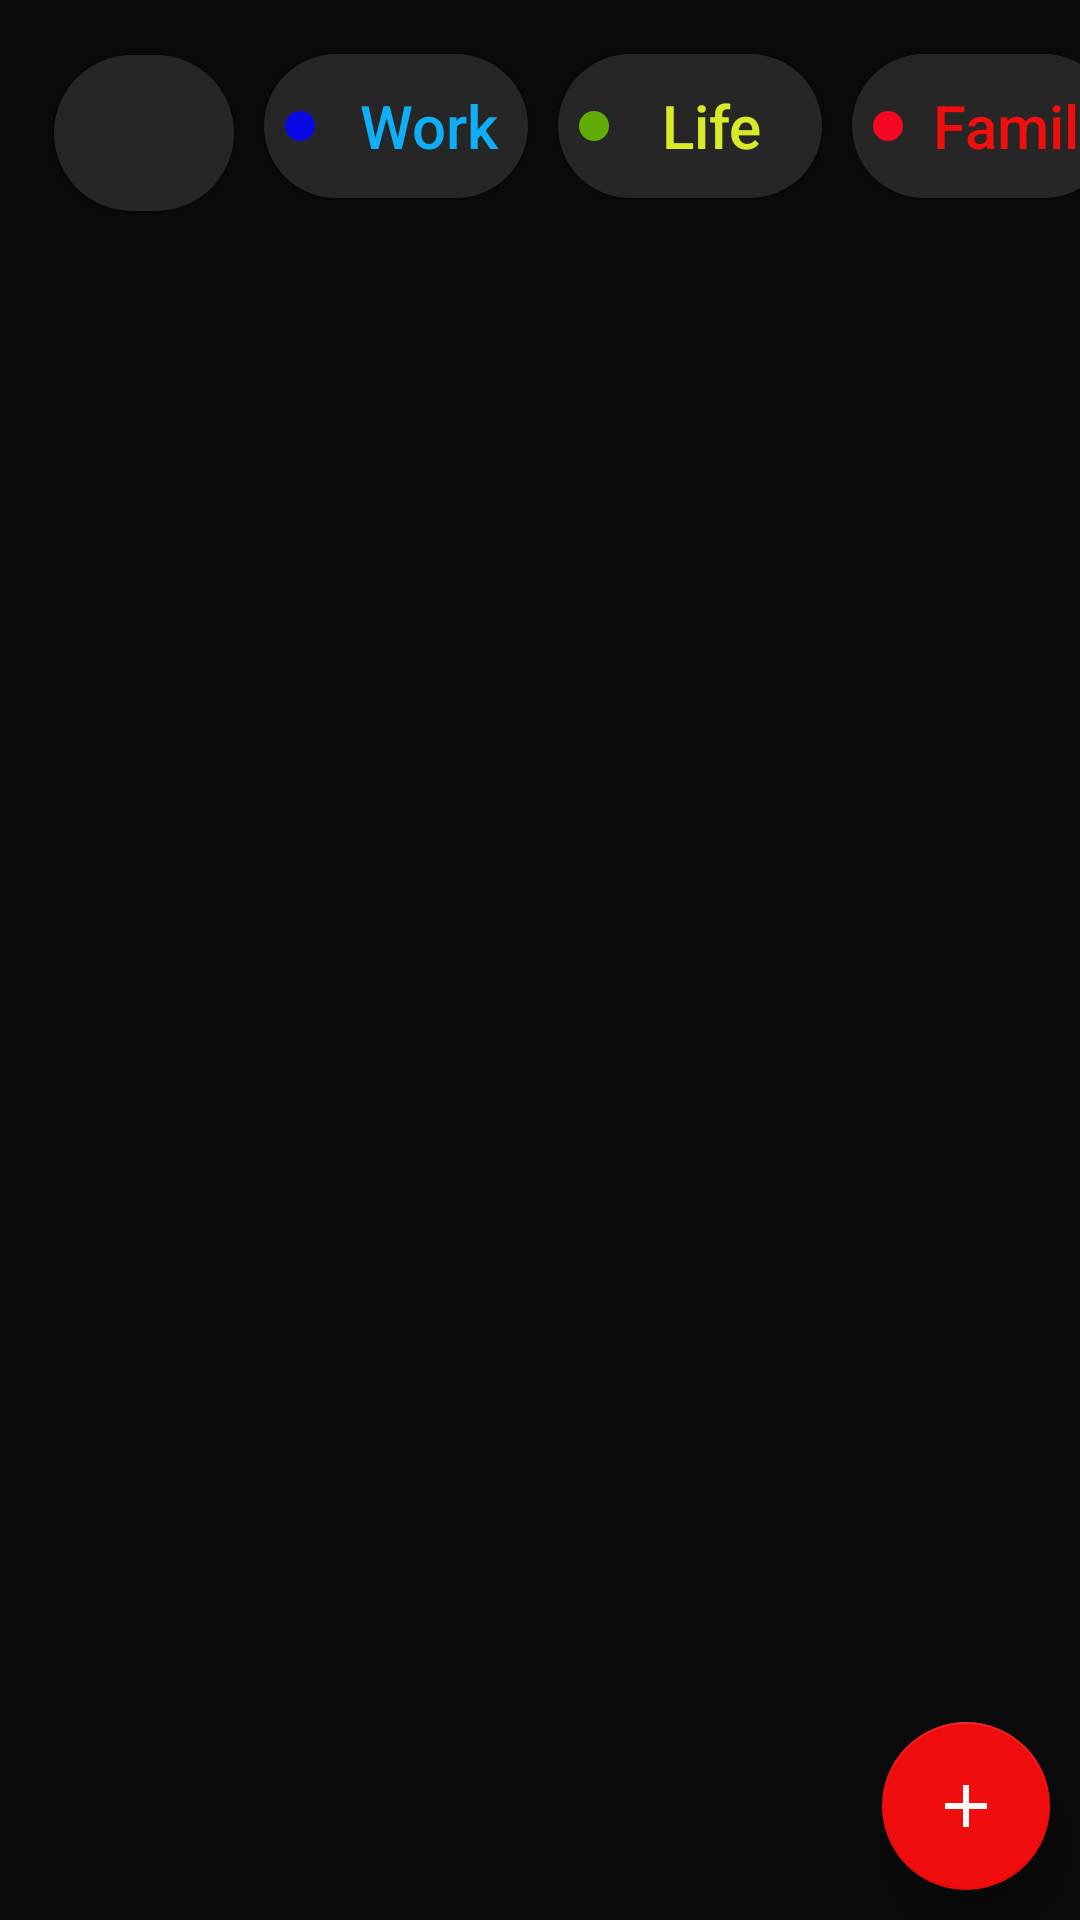

Where icons sit on this 1080w x 1920h app screen, as (x1, y1, x2, y2):
floating btn: (882, 1722, 1050, 1890)
